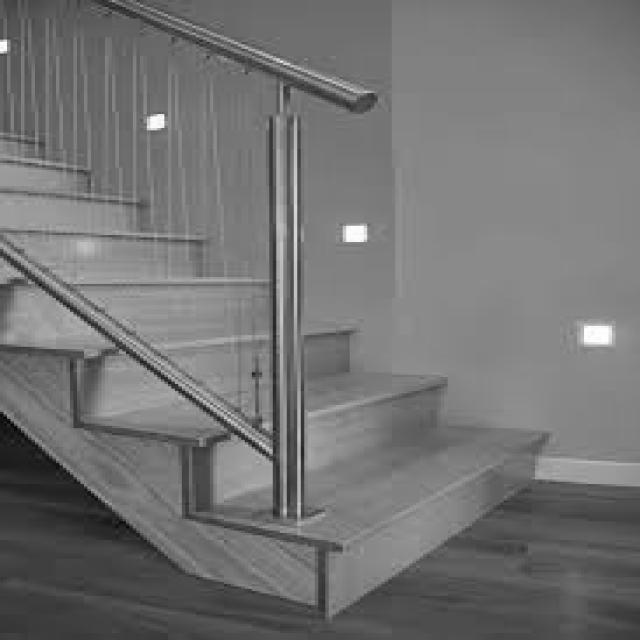stair: (0, 137, 546, 612)
